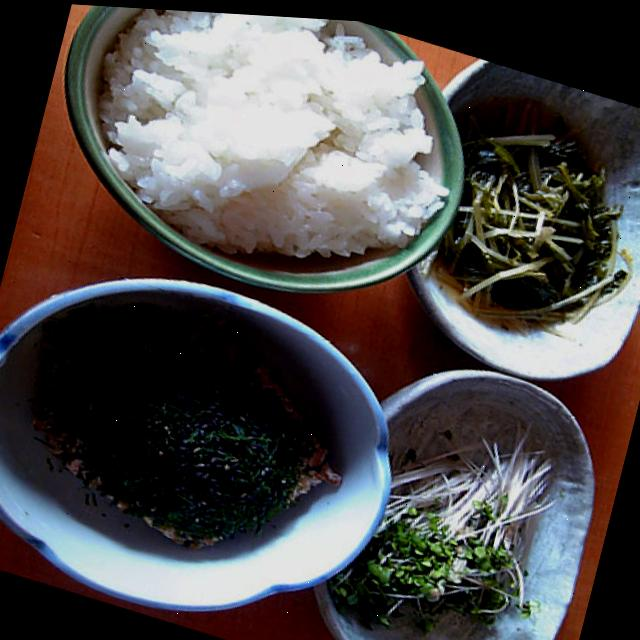米饭主食: (35, 2, 490, 330)
